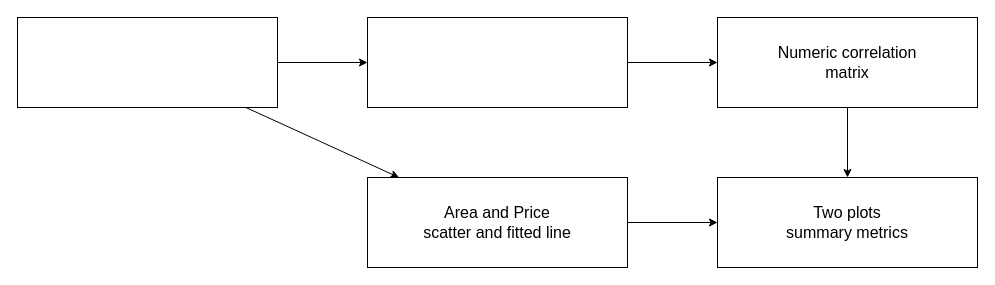
This 995x285 diagram has some shape labels left out. Each missing label, with the centre of its shape:
"Housing table 900 rows" goes at (147,62).
"Shape and head descriptive statistics" goes at (497,62).
